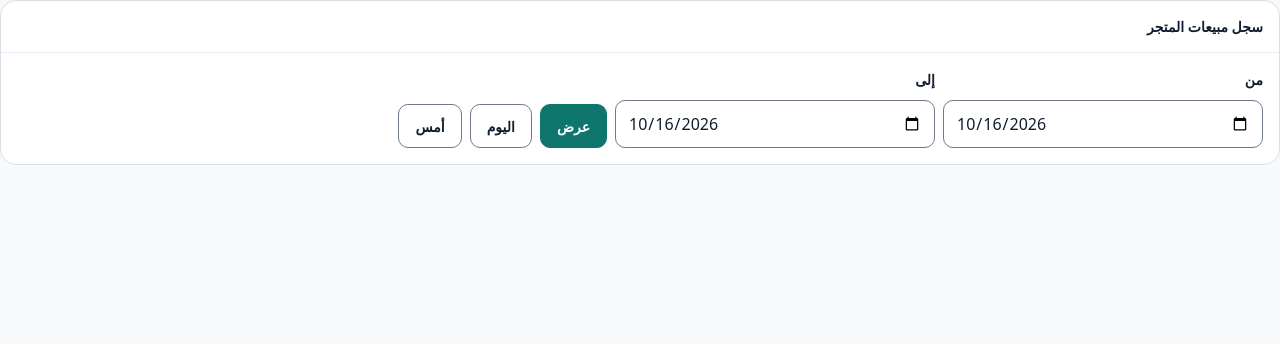
RT-542 SalesHistory — states › tells a cashier the list is their own sales across the store
Click the button "عرض" at coordinates (574, 126), box [540, 104, 607, 148]
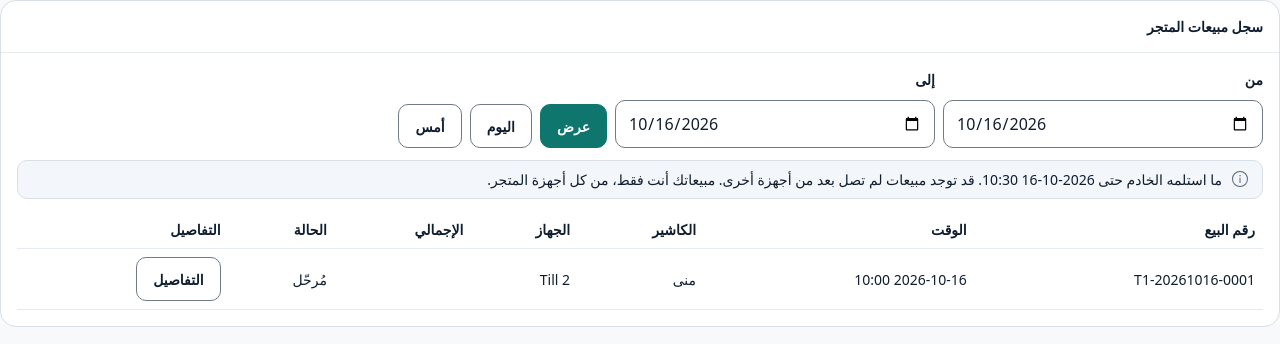
Now the message with test id "history-coverage" shows "مبيعاتك أنت فقط، من كل أجهزة المتجر.", box [487, 170, 715, 189]
